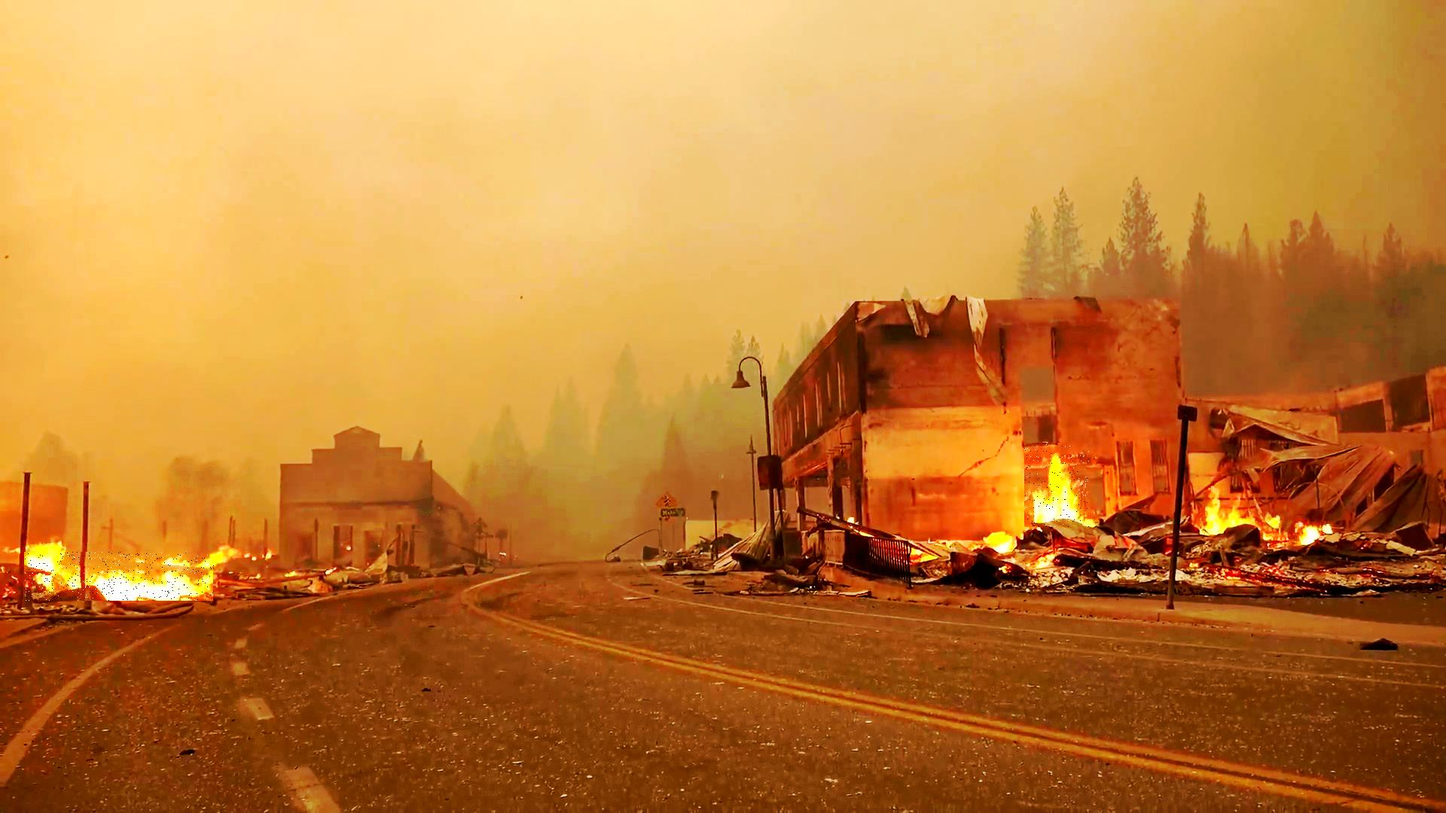fire: (25, 552, 215, 601), (1025, 443, 1090, 527)
